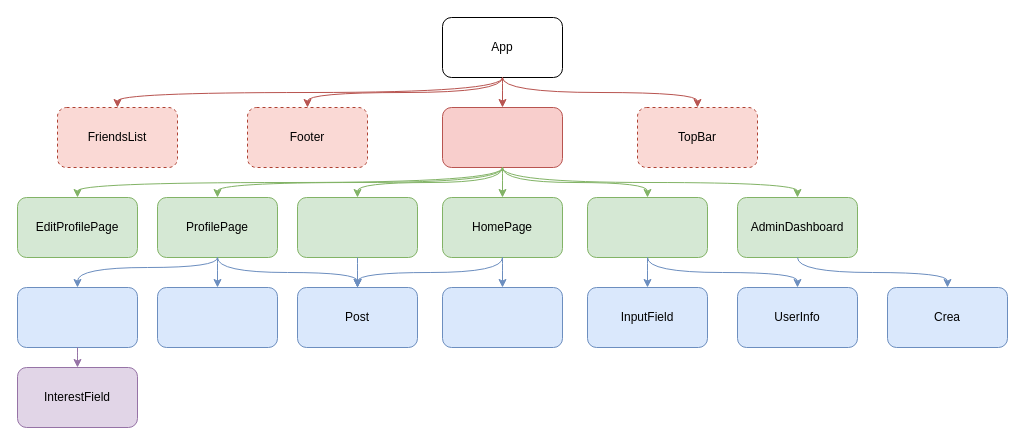
The diagram is 1025 pixels wide and 445 high, and some of its shapes have lost their labels. The shapes that lost their labels are listed below. From the top down, each one's centre as x and y in pixels, then its label:
(502,137): Main
(357,227): AllPostsPage
(647,227): CreatePost
(77,317): Interests
(217,317): Bio
(502,317): UpdatesBoard
